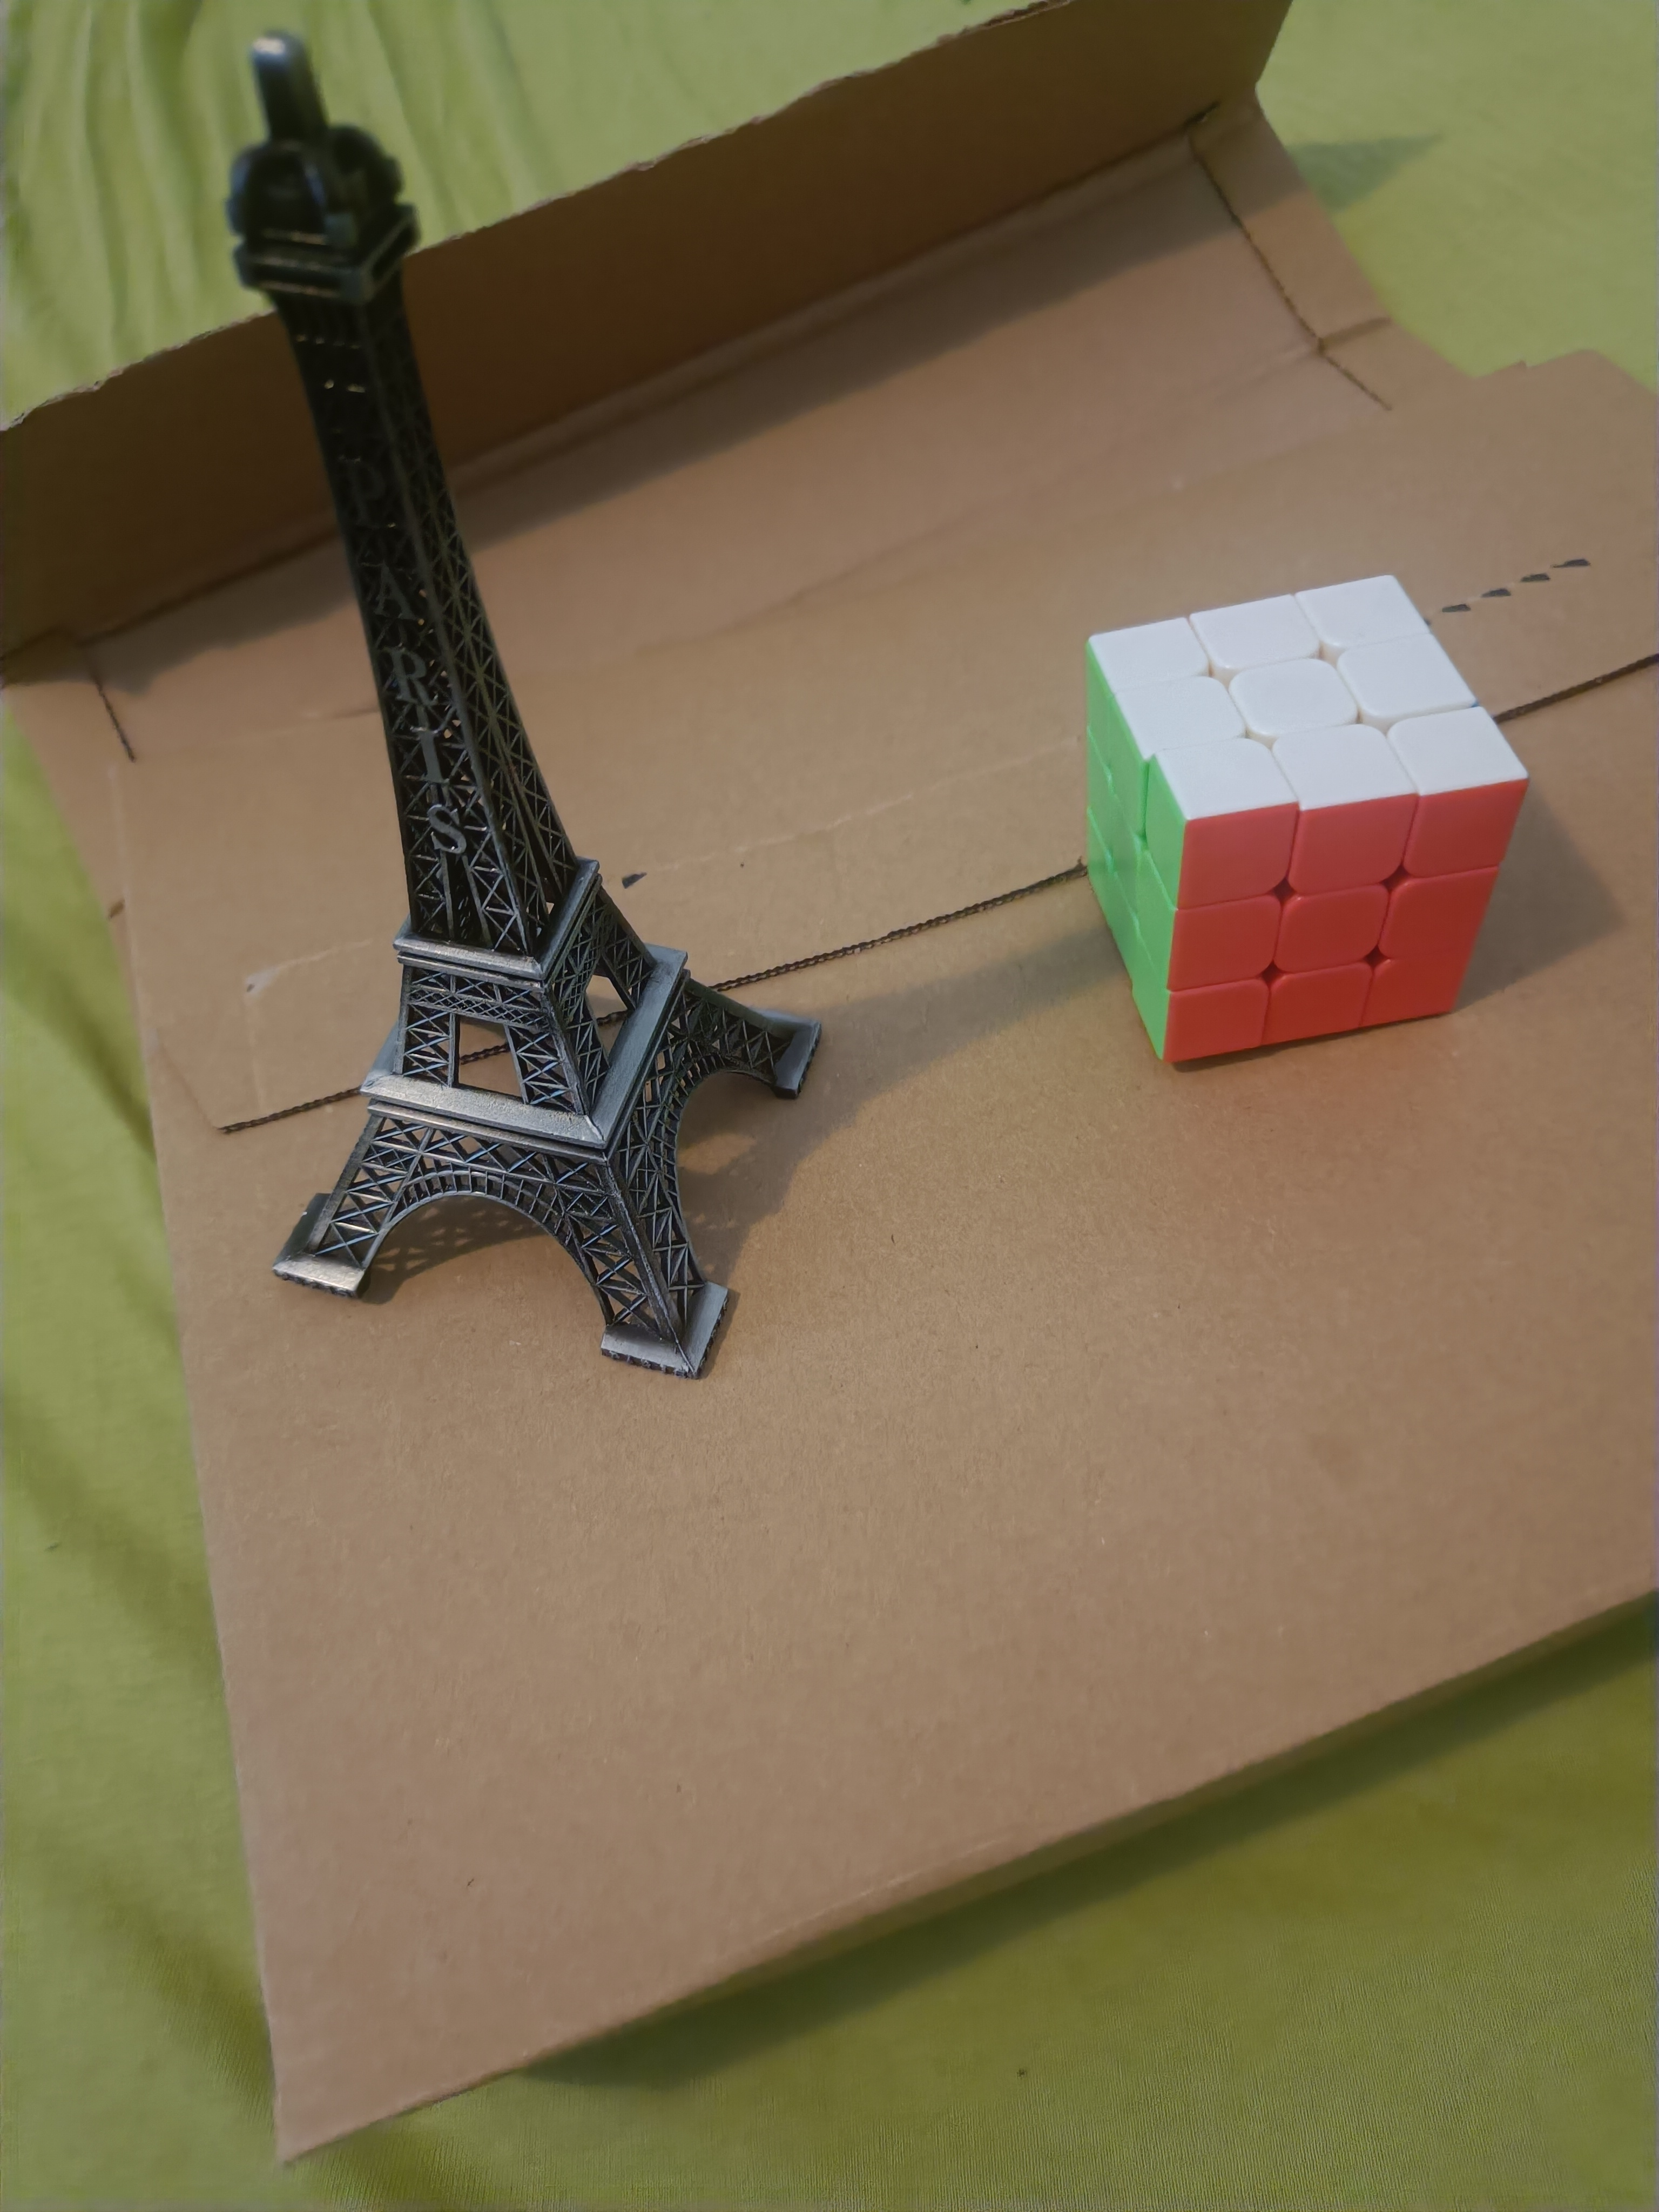Eiffel Tower: (202, 37, 838, 1390)
Rubiks Cube: (1066, 547, 1535, 1078)
